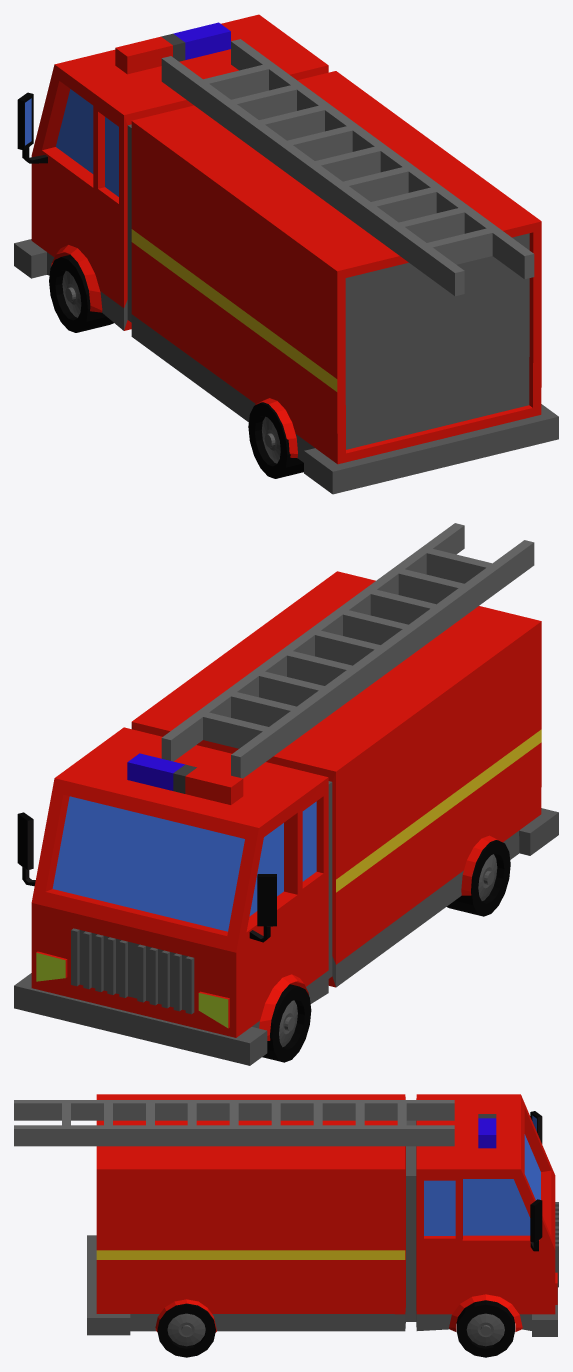
The model's file is firestation_bus.fbx.
3 views of the same model, one above another, from view 1: azimuth 30°, elevation 25°; view 2: azimuth 150°, elevation 25°; view 3: azimuth 270°, elevation 25° (orthographic). The views are drawn at different scales.
Visible parts, largest first — view 1: Firetruck; view 2: Firetruck; view 3: Firetruck.
Boxes of the visible parts, <box> form: Firetruck: <box>14,14,558,494</box>; Firetruck: <box>14,523,558,1065</box>; Firetruck: <box>14,1094,558,1357</box>.
Size of the model in its own units: 110 by 109 by 266.
